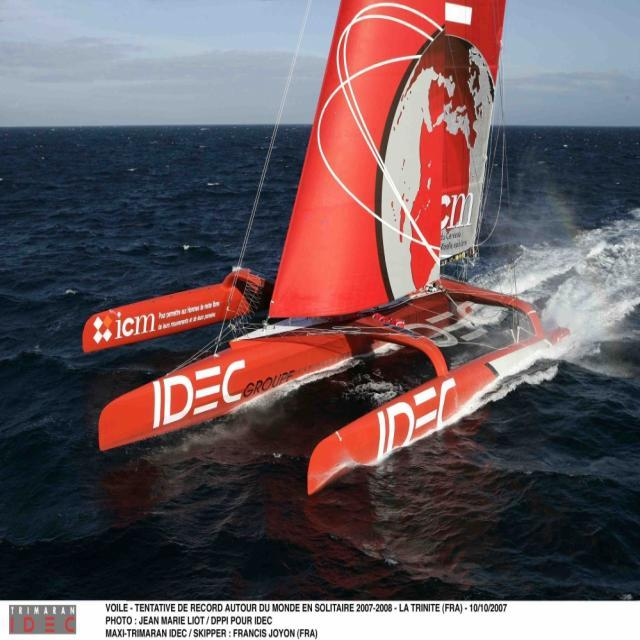Ship: (54, 1, 568, 486)
